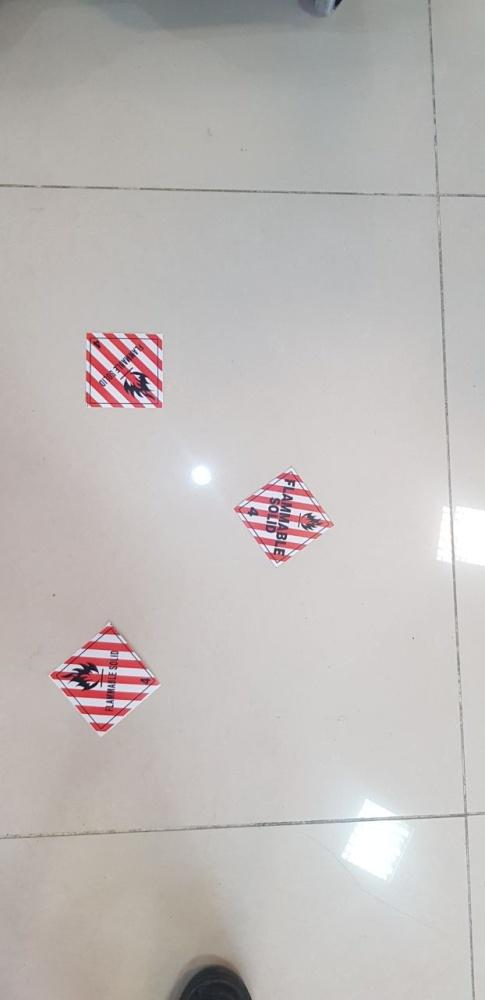flammable-solid: (55, 624, 155, 739), (237, 469, 330, 570), (85, 333, 163, 405)
